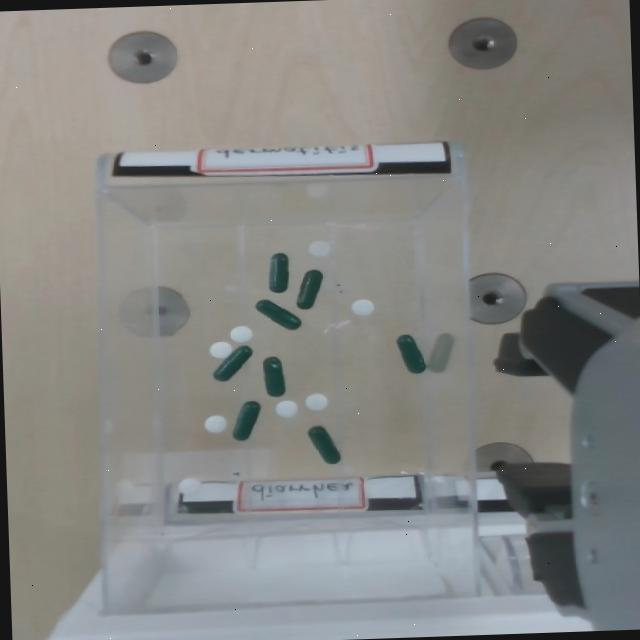ganakan_tab: (201, 414, 227, 436), (205, 340, 233, 360), (226, 324, 253, 344), (349, 298, 374, 317), (303, 393, 327, 411), (272, 400, 296, 418), (306, 239, 329, 257)
monodoxy_cap: (208, 344, 252, 382), (252, 297, 300, 331), (304, 424, 341, 465), (393, 332, 426, 375), (228, 399, 261, 441), (211, 345, 250, 380), (254, 299, 299, 329), (292, 269, 323, 311), (307, 425, 339, 463), (395, 334, 424, 372), (231, 400, 259, 439), (260, 356, 285, 398), (295, 269, 321, 308), (266, 252, 290, 293), (262, 356, 283, 395), (267, 252, 287, 292)
